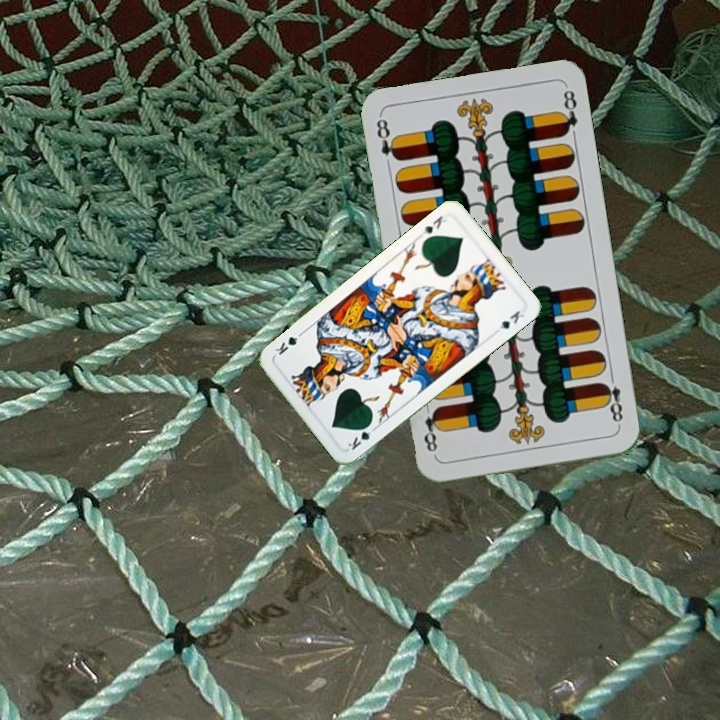E8: (598, 370, 626, 429), (372, 114, 402, 163)
GK: (344, 419, 379, 453), (416, 212, 449, 240)
